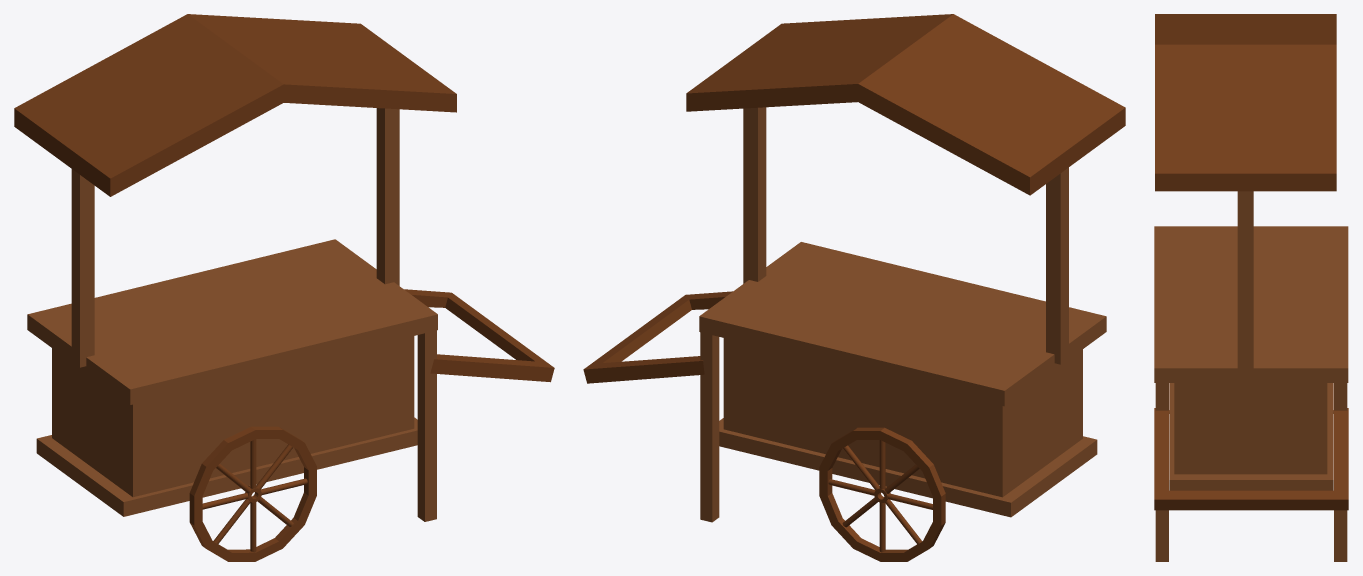
File: Caseta 3.fbx
The picture shows the model from 3 angles, left to right: view 1: azimuth 30°, elevation 25°; view 2: azimuth 150°, elevation 25°; view 3: azimuth 270°, elevation 25°; orthographic projection. The views are drawn at different scales.
Visible parts, largest first — view 1: Cube; view 2: Cube; view 3: Cube.
Part boxes in pixels (x1=…): Cube: x1=14, y1=14, x2=554, y2=561; Cube: x1=583, y1=14, x2=1125, y2=561; Cube: x1=1154, y1=14, x2=1348, y2=561.
Bounding box in the file's own units: 705 × 717 × 283.
